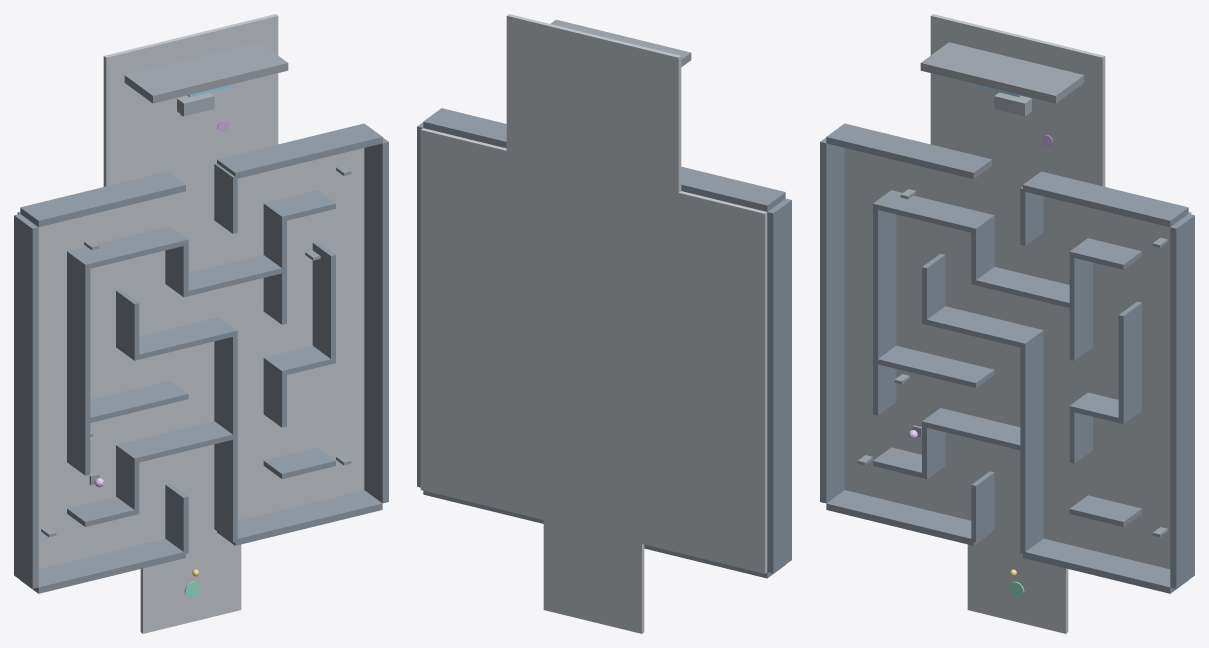
The model's file is level_05_grim_funeral.glb.
The picture shows the model from 3 angles, left to right: view 1: azimuth 30°, elevation 25°; view 2: azimuth 150°, elevation 25°; view 3: azimuth 330°, elevation 25°; orthographic projection.
Visible parts, largest first — view 1: CEMETERY_MAZE_WALKABLE_0002, CHAPEL_0049, MAZE_LEFT_BOUNDARY_0003, MAZE_RIGHT_BOUNDARY_0004, FUNERAL_ARRIVAL_0001, CHAPEL_FRONT_0050, MAZE_DIVIDER_VERTICAL_0029, MAZE_DIVIDER_VERTICAL_0018, MAZE_DIVIDER_VERTICAL_0048, MAZE_DIVIDER_HORIZONTAL_0020, MAZE_DIVIDER_VERTICAL_0041, MAZE_TOP_BOUNDARY_0006 (+39 smaller); view 2: CEMETERY_MAZE_WALKABLE_0002, CHAPEL_0049, FUNERAL_ARRIVAL_0001, MAZE_LEFT_BOUNDARY_0003, MAZE_RIGHT_BOUNDARY_0004, MAZE_TOP_BOUNDARY_0006, MAZE_TOP_BOUNDARY_0016, MAZE_TOP_BOUNDARY_0008, CHAPEL_FRONT_0050, MAZE_TOP_BOUNDARY_0014; view 3: CEMETERY_MAZE_WALKABLE_0002, CHAPEL_0049, MAZE_RIGHT_BOUNDARY_0004, MAZE_LEFT_BOUNDARY_0003, FUNERAL_ARRIVAL_0001, CHAPEL_FRONT_0050, MAZE_DIVIDER_VERTICAL_0018, MAZE_DIVIDER_HORIZONTAL_0020, MAZE_TOP_BOUNDARY_0010, MAZE_TOP_BOUNDARY_0016, MAZE_DIVIDER_VERTICAL_0041, MAZE_DIVIDER_HORIZONTAL_0047 (+39 smaller).
Boxes of the visible parts, bbox=[...] form: CEMETERY_MAZE_WALKABLE_0002: bbox=[17, 148, 364, 569]; CHAPEL_0049: bbox=[103, 14, 278, 186]; MAZE_LEFT_BOUNDARY_0003: bbox=[14, 214, 38, 588]; MAZE_RIGHT_BOUNDARY_0004: bbox=[364, 137, 388, 503]; FUNERAL_ARRIVAL_0001: bbox=[140, 526, 241, 633]; CHAPEL_FRONT_0050: bbox=[124, 42, 288, 103]; MAZE_DIVIDER_VERTICAL_0029: bbox=[263, 358, 286, 427]; MAZE_DIVIDER_VERTICAL_0018: bbox=[165, 483, 188, 554]; MAZE_DIVIDER_VERTICAL_0048: bbox=[214, 163, 237, 233]; MAZE_DIVIDER_HORIZONTAL_0020: bbox=[263, 447, 335, 478]; MAZE_DIVIDER_VERTICAL_0041: bbox=[312, 241, 335, 311]; MAZE_TOP_BOUNDARY_0006: bbox=[20, 195, 87, 227]; CEMETERY_MAZE_WALKABLE_0002: bbox=[420, 128, 767, 573]; CHAPEL_0049: bbox=[506, 14, 681, 192]; FUNERAL_ARRIVAL_0001: bbox=[543, 520, 644, 633]; MAZE_LEFT_BOUNDARY_0003: bbox=[767, 198, 791, 573]; MAZE_RIGHT_BOUNDARY_0004: bbox=[417, 122, 423, 487]; MAZE_TOP_BOUNDARY_0006: bbox=[718, 180, 785, 211]; MAZE_TOP_BOUNDARY_0016: bbox=[423, 108, 490, 139]; MAZE_TOP_BOUNDARY_0008: bbox=[681, 168, 736, 199]; CHAPEL_FRONT_0050: bbox=[550, 19, 691, 67]; MAZE_TOP_BOUNDARY_0014: bbox=[472, 120, 506, 148]; CEMETERY_MAZE_WALKABLE_0002: bbox=[844, 148, 1191, 569]; CHAPEL_0049: bbox=[930, 14, 1105, 186]; MAZE_RIGHT_BOUNDARY_0004: bbox=[1170, 214, 1194, 588]; MAZE_LEFT_BOUNDARY_0003: bbox=[820, 137, 844, 503]; FUNERAL_ARRIVAL_0001: bbox=[967, 526, 1068, 633]; CHAPEL_FRONT_0050: bbox=[920, 42, 1084, 103]; MAZE_DIVIDER_VERTICAL_0018: bbox=[971, 471, 994, 542]; MAZE_DIVIDER_HORIZONTAL_0020: bbox=[1069, 495, 1141, 526]; MAZE_TOP_BOUNDARY_0010: bbox=[924, 147, 991, 179]; MAZE_TOP_BOUNDARY_0016: bbox=[1121, 195, 1188, 227]; MAZE_DIVIDER_VERTICAL_0041: bbox=[1118, 301, 1141, 372]; MAZE_DIVIDER_HORIZONTAL_0047: bbox=[1070, 238, 1141, 269].
Size of the model in its own units: 58 by 91 by 8.7.
